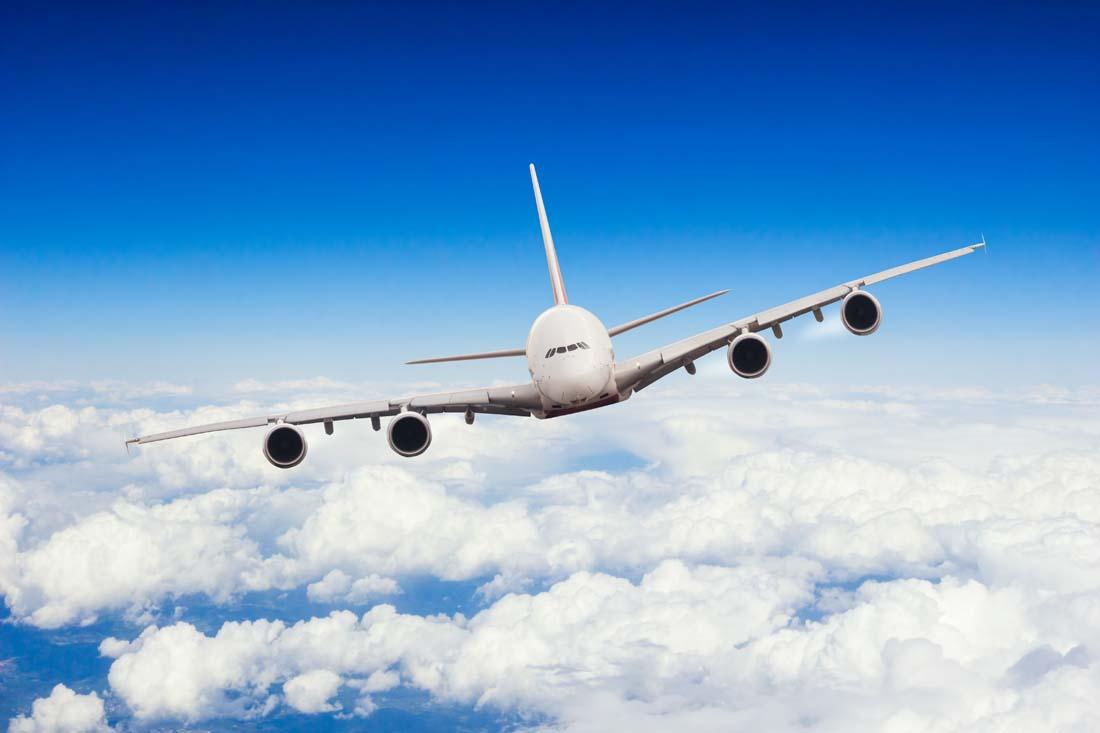airplane: (103, 162, 994, 482)
